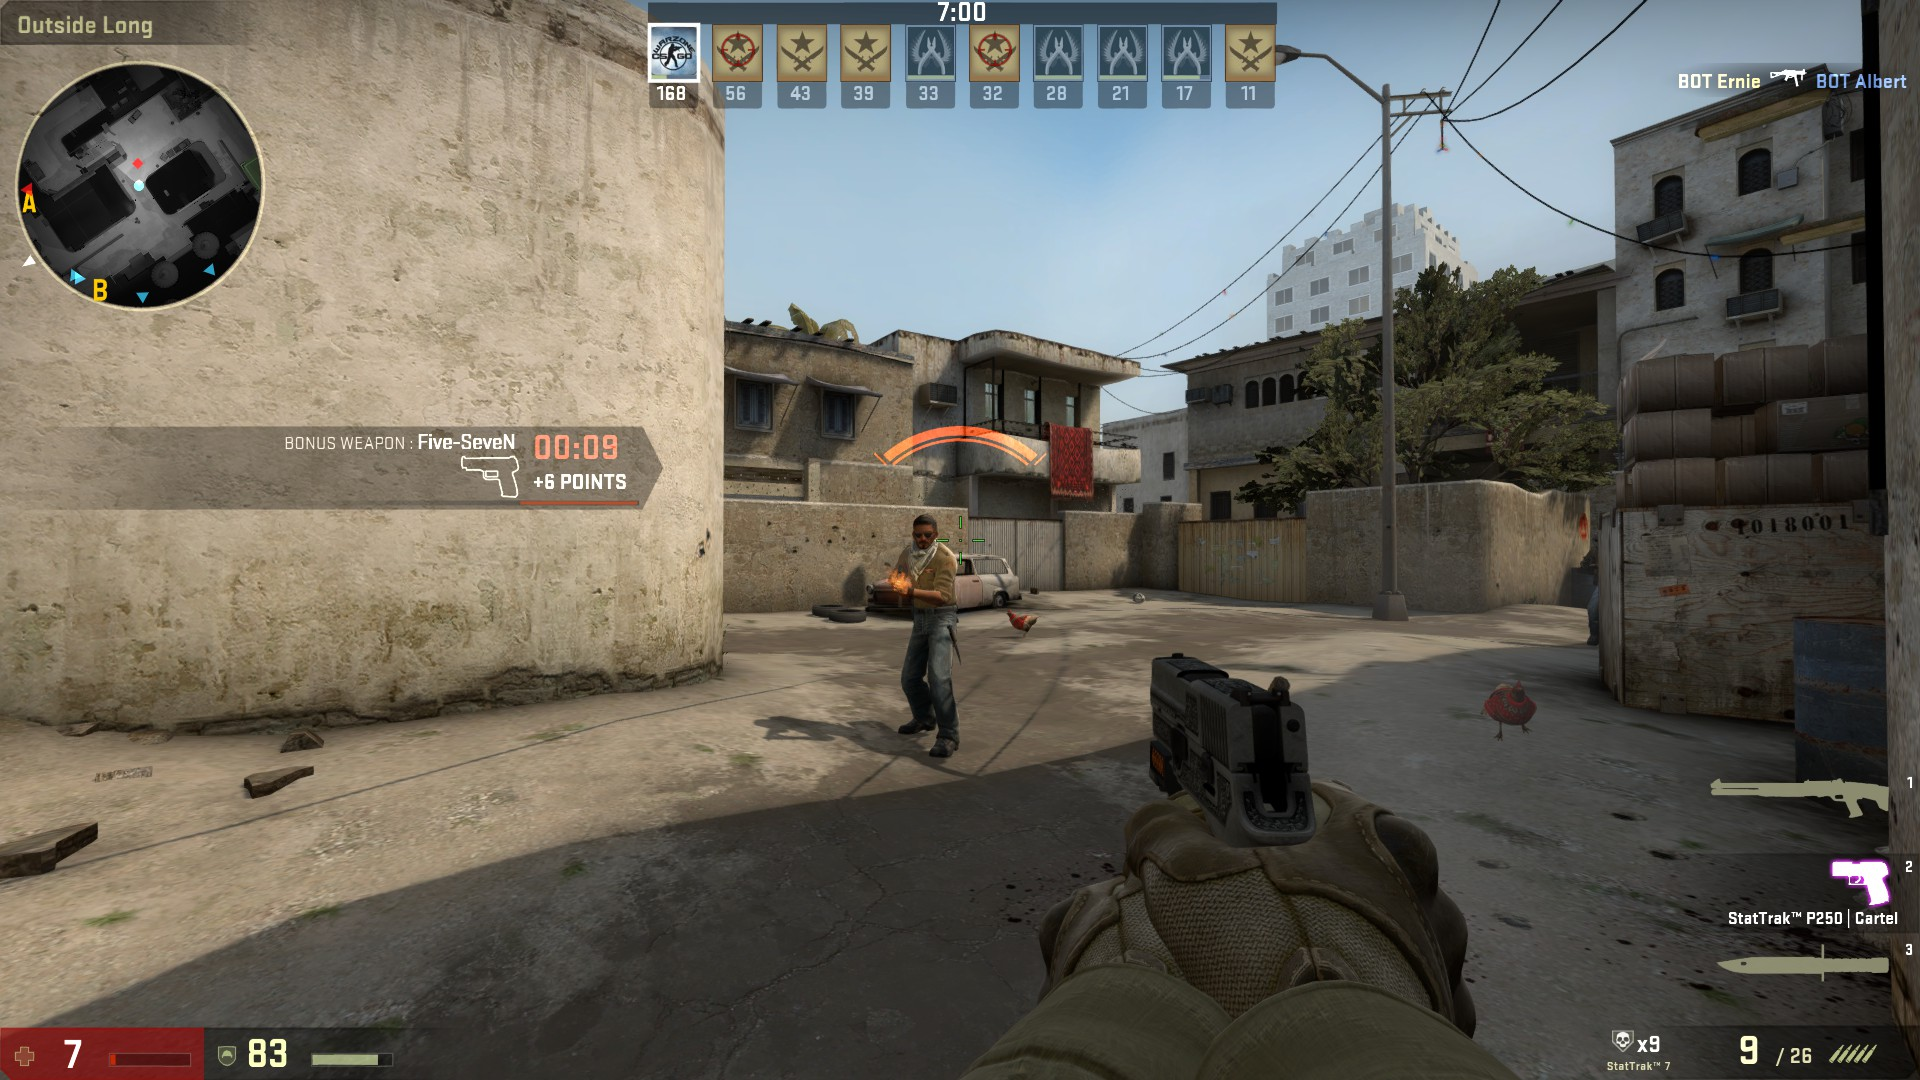t: (886, 512, 963, 761)
th: (907, 510, 942, 560)
